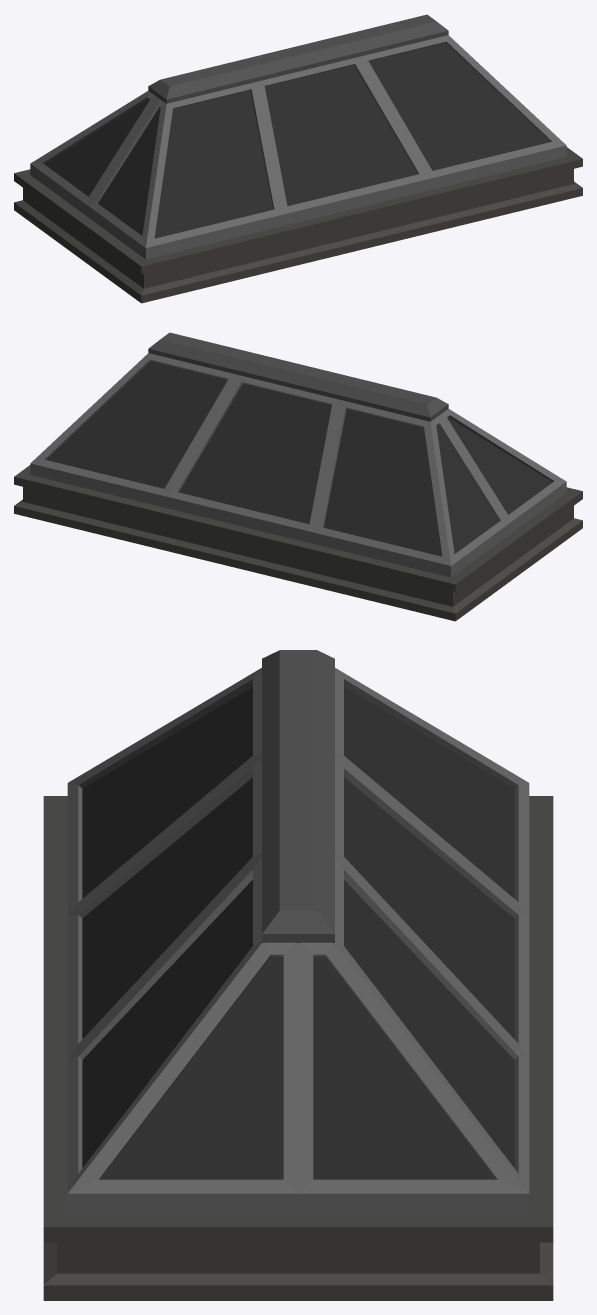
File: SM_Props_Roof_Generic_01.fbx
3 renders of one model, top to bottom at view 1: azimuth 30°, elevation 25°; view 2: azimuth 150°, elevation 25°; view 3: azimuth 270°, elevation 25°, orthographic. The views are drawn at different scales.
Visible parts, largest first — view 1: SM_Props_Roof_Generic_01; view 2: SM_Props_Roof_Generic_01; view 3: SM_Props_Roof_Generic_01.
Part boxes in pixels (<box>): SM_Props_Roof_Generic_01: <box>14,14,582,303</box>; SM_Props_Roof_Generic_01: <box>14,332,582,621</box>; SM_Props_Roof_Generic_01: <box>43,650,553,1300</box>.
Bounding box in the file's own units: 400 × 132 × 200.
